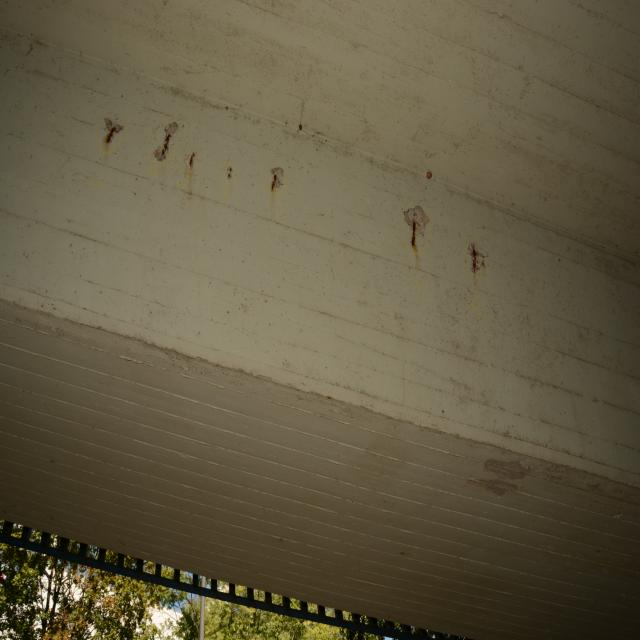corrosion: (85, 90, 303, 220), (394, 162, 505, 291)
